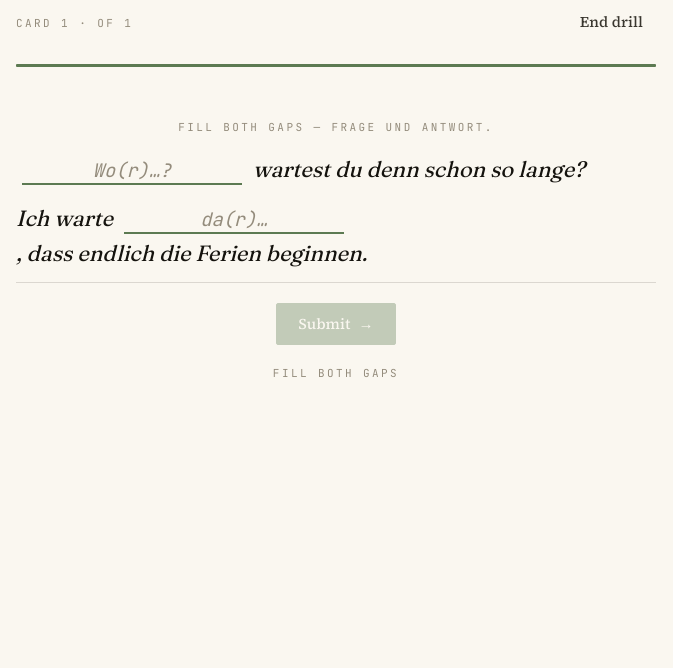
it: DialogueRunner — smoke tests › shows per-slot ✓/✗ and the reveal explanation when only one slot is wrong
Type "totally-wrong" into the field with class "dlg-gap-input" showing "Wo(r)…?" at (132, 171), box [22,158,242,185]
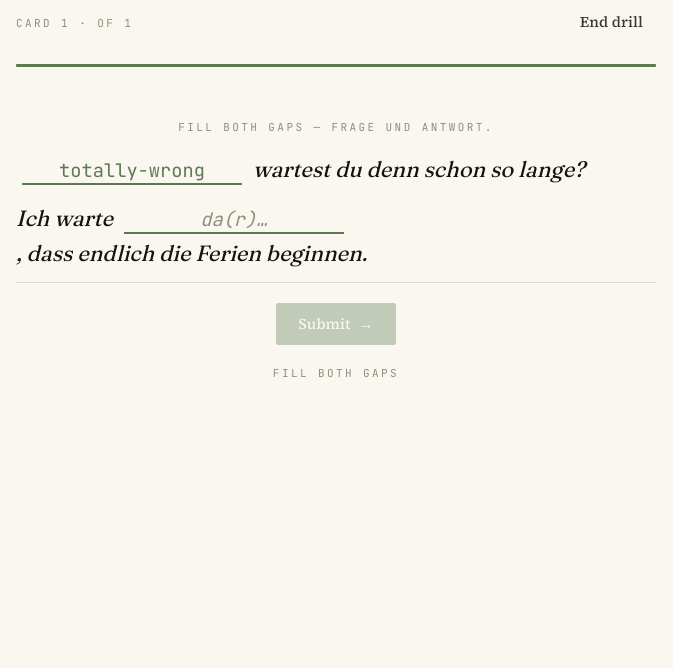
Type "darauf" into the field with class "dlg-gap-input" showing "da(r)…" at (234, 220), box [124,207,344,234]
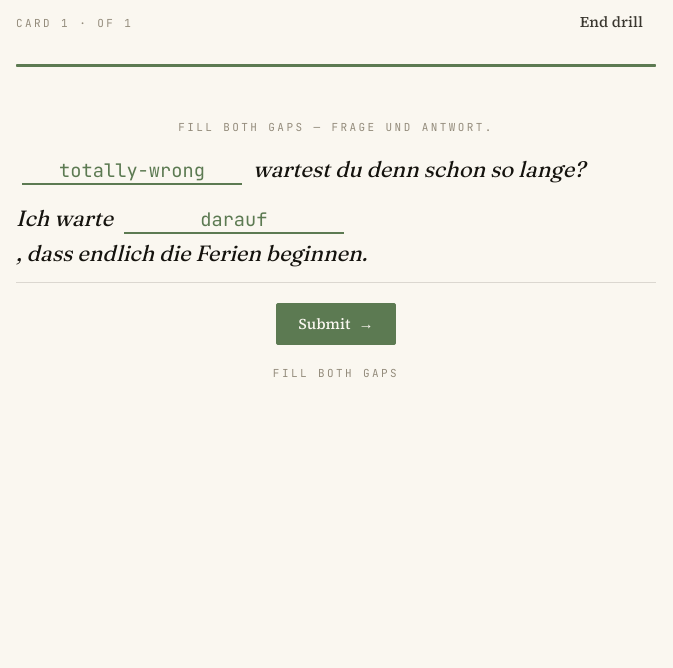
Click the button "Submit →" at (336, 324), box [276,303,396,345]
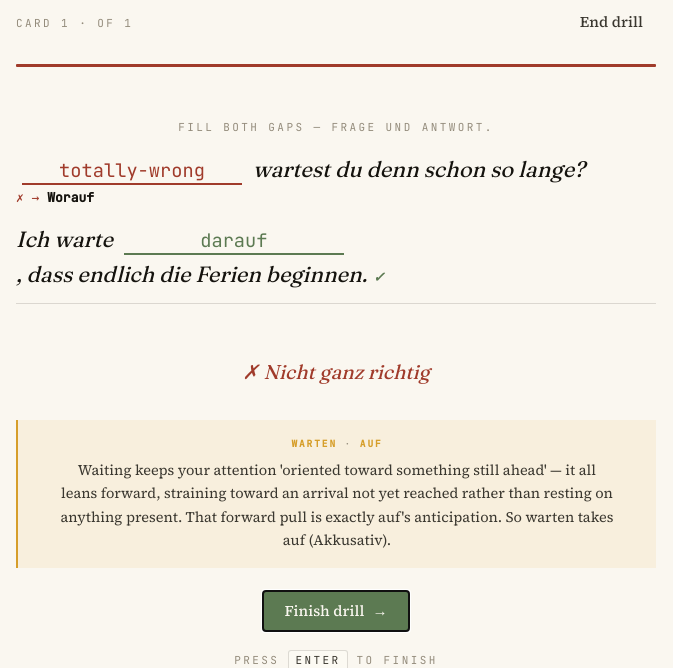
Check: the text "✗ Nicht ganz richtig" is shown, box [242,356,430,388]
Check: the text "✓" is shown, box [373,267,385,288]
Check: the element with class "dlg-expected" is shown, box [16,188,94,207]
